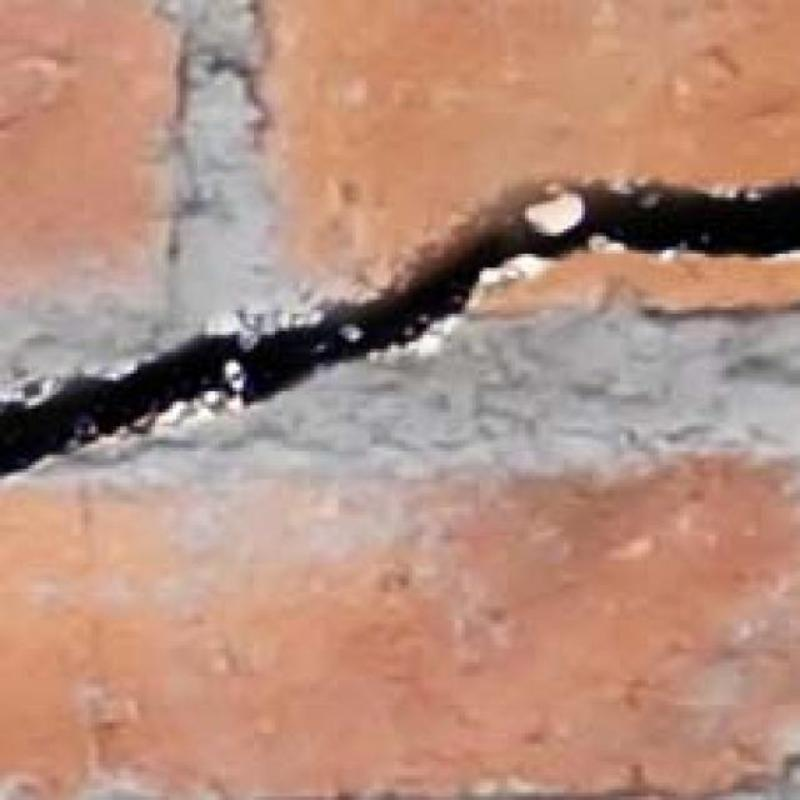crack: (0, 187, 800, 474)
